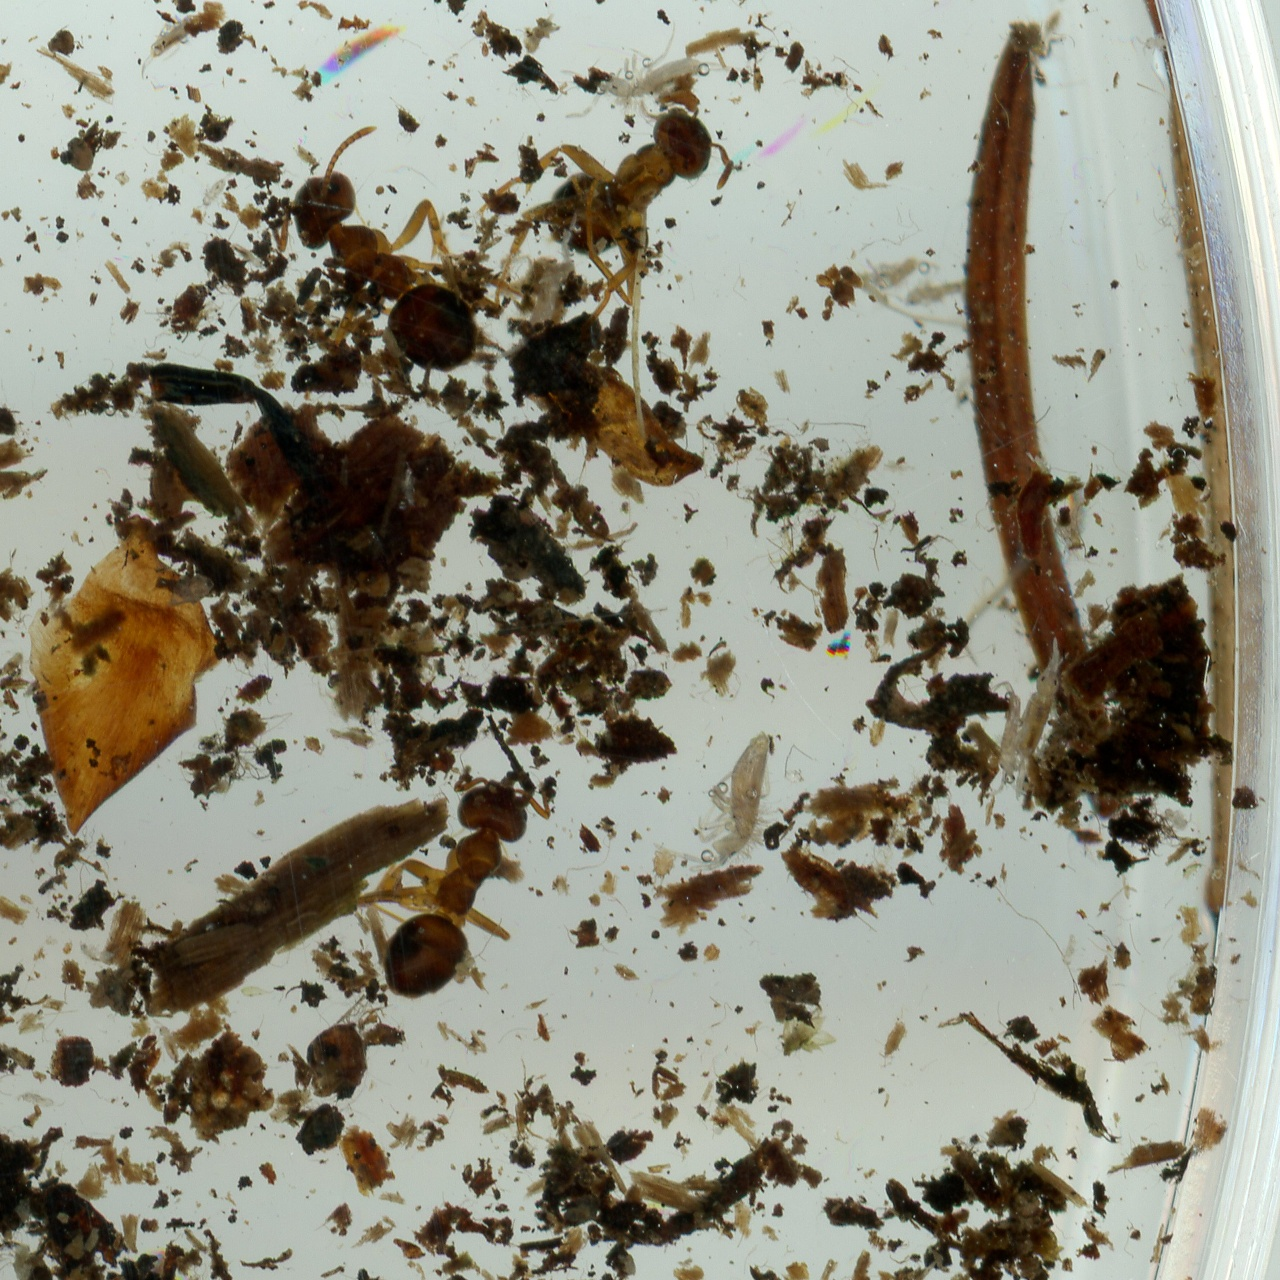arthropod: (226, 117, 533, 435), (476, 50, 764, 339), (350, 761, 551, 1023), (648, 712, 794, 888), (561, 19, 743, 124), (489, 207, 586, 362), (996, 627, 1078, 806), (122, 2, 207, 84), (992, 679, 1024, 798), (189, 162, 243, 222), (863, 253, 940, 293), (884, 280, 965, 313), (151, 1017, 188, 1068), (12, 1087, 70, 1115), (457, 9, 490, 50), (649, 845, 679, 888), (76, 939, 117, 965), (1135, 32, 1170, 60), (1060, 933, 1085, 971), (1163, 803, 1194, 831), (148, 1269, 203, 1280), (477, 40, 495, 60), (50, 0, 72, 4)
